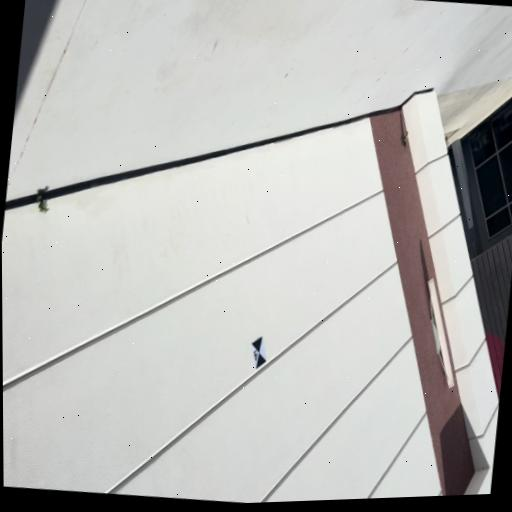target4: (251, 336, 267, 369)
